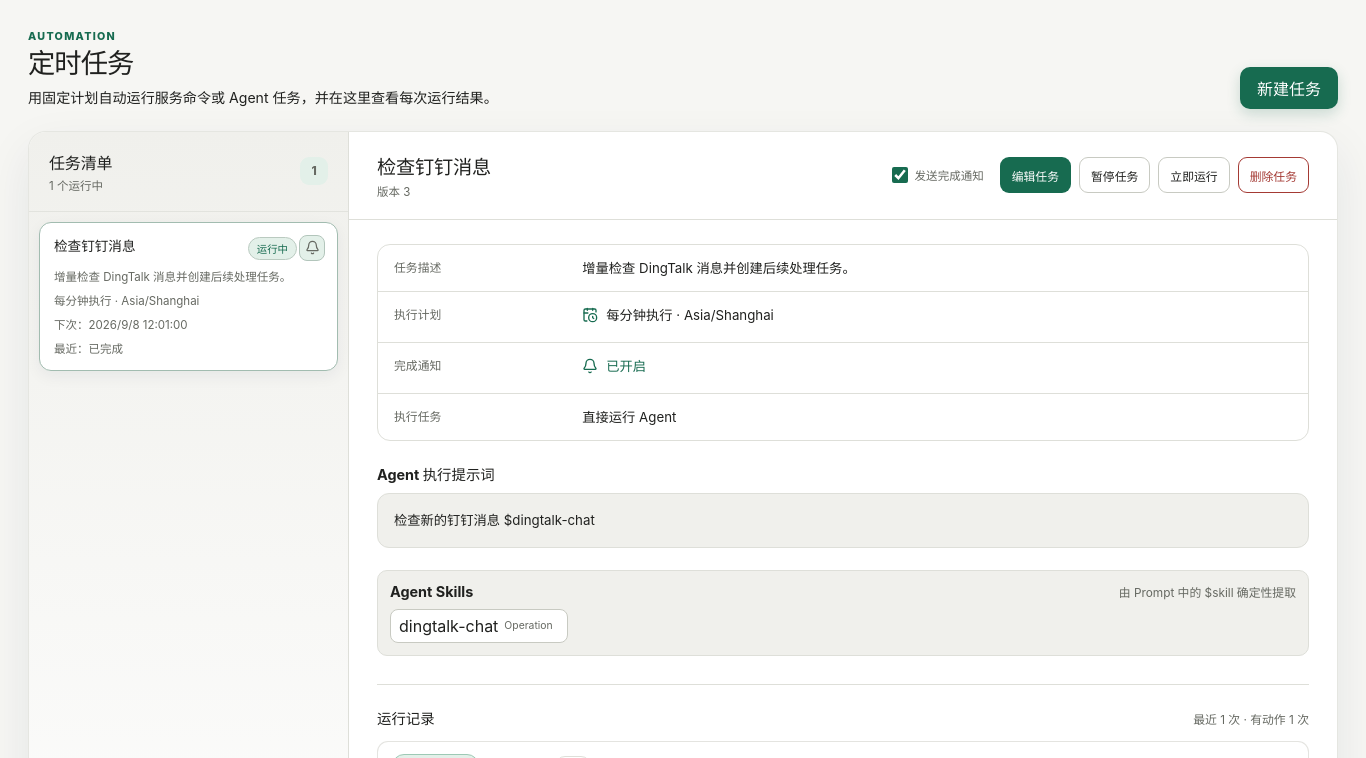
Test: ScheduledTasksPage › retries a failed Skill preview on a later hover instead of latching the transient error
The image size is (1366, 758).
Hover over the button with aria-label "预览 dingtalk-chat Skill" at (479, 626), box [390,609,568,643]
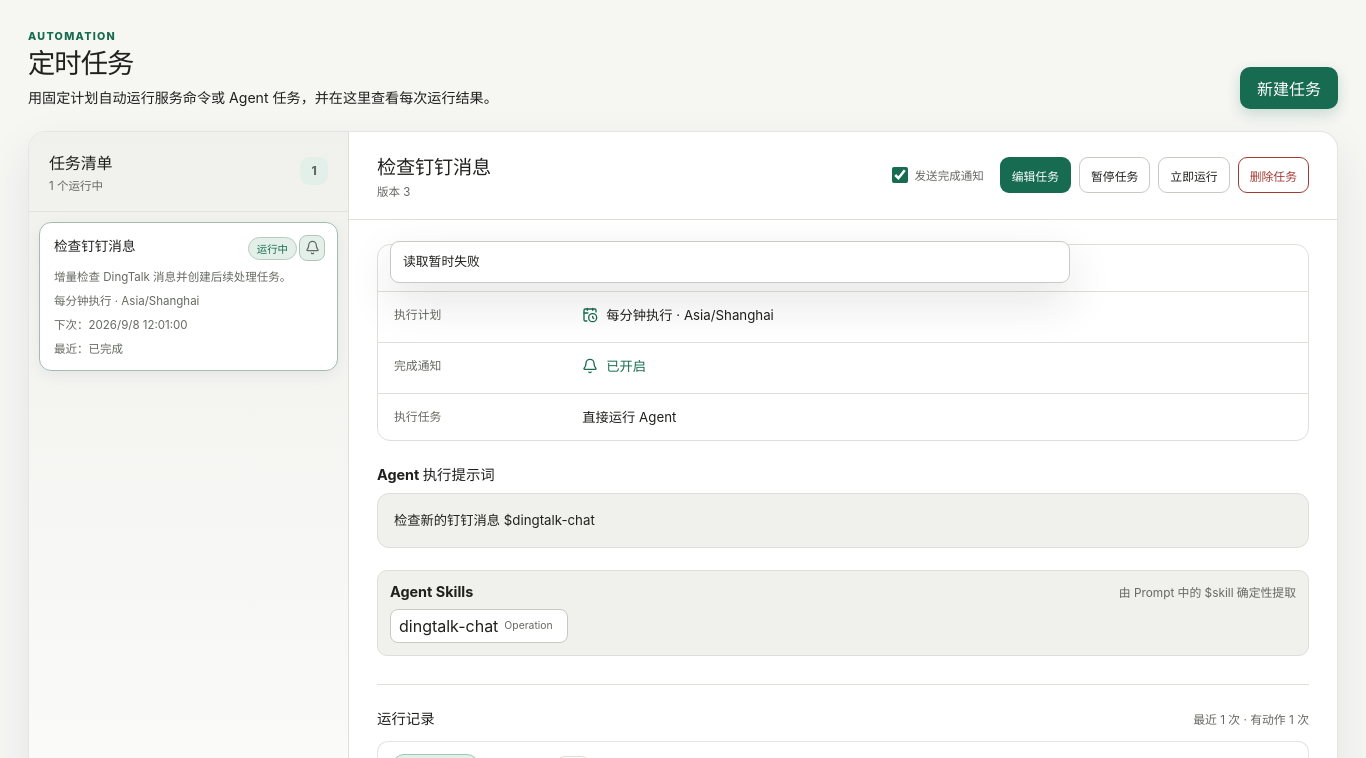
Now the element named "dingtalk-chat Skill 正文" reads "读取暂时失败", box [403,254,480,269]
Move the pointer off the button with aria-label "预览 dingtalk-chat Skill", box [390,609,568,643]
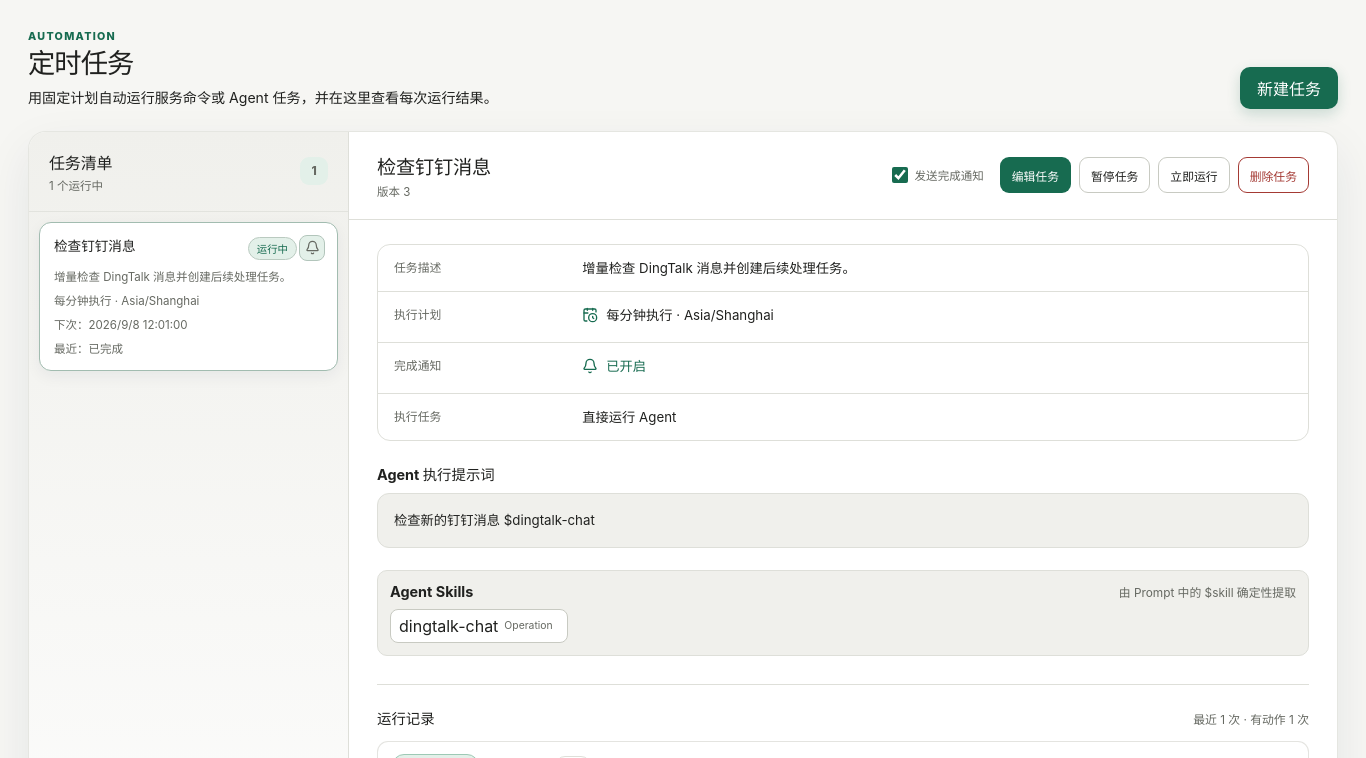
Hover over the button with aria-label "预览 dingtalk-chat Skill" at (479, 626), box [390,609,568,643]
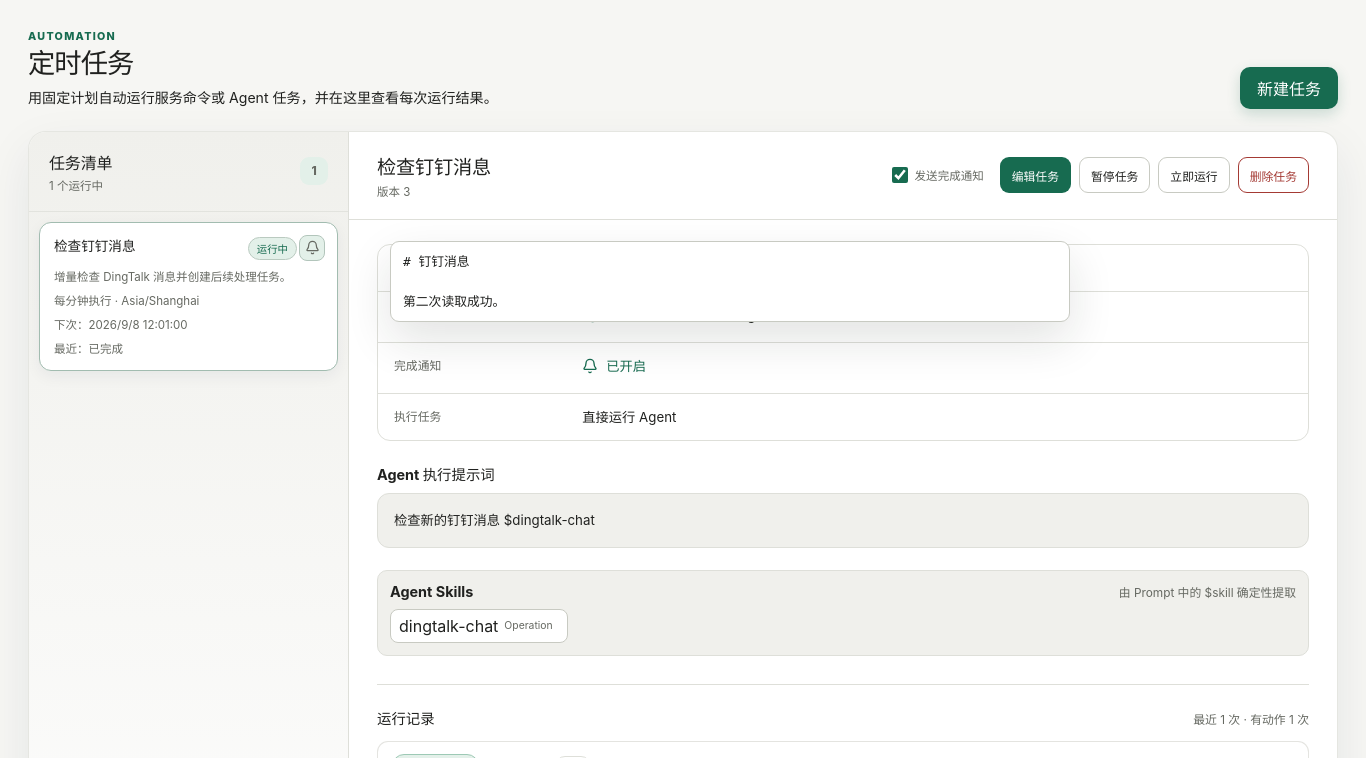
Now the element named "dingtalk-chat Skill 正文" shows "第二次读取成功", box [403,254,505,309]
